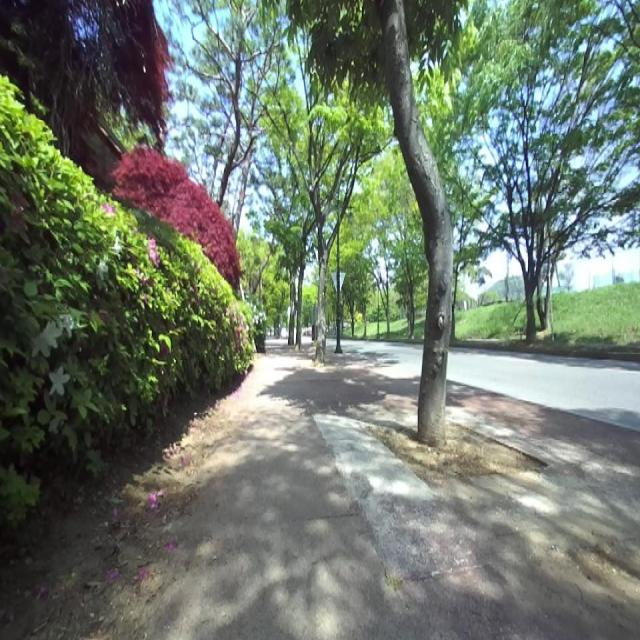sidewalk: (147, 343, 640, 638)
